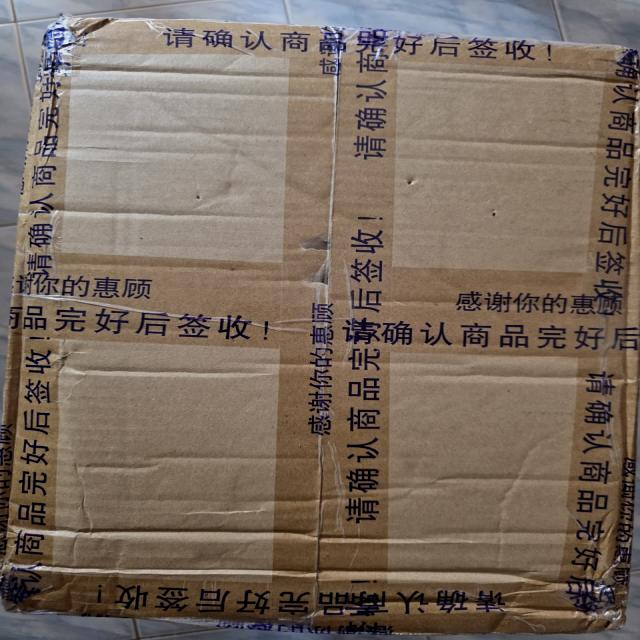carton_box: (3, 13, 640, 640)
